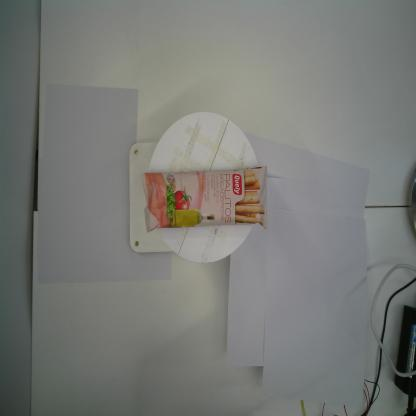Dessert: (139, 164, 269, 233)
